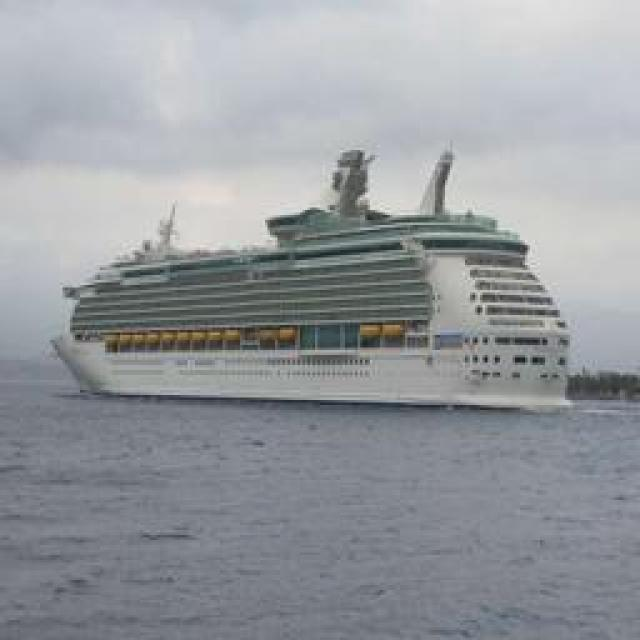CIV_Ship: (58, 140, 580, 408)
